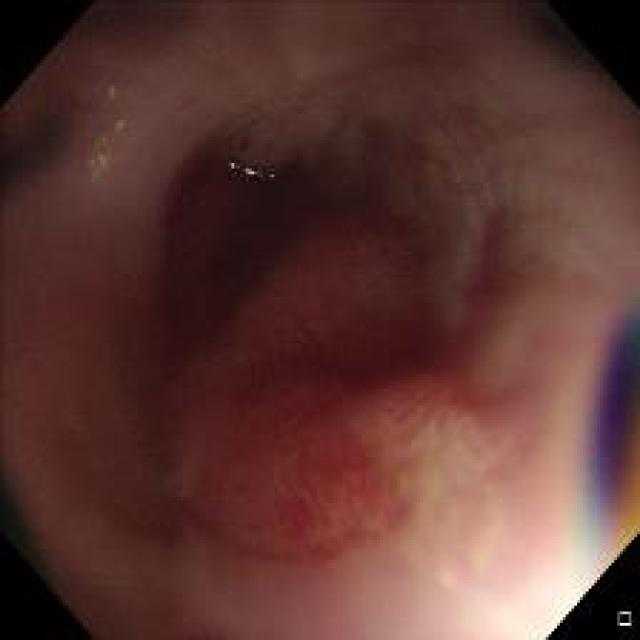color misalignment: (581, 298, 638, 558), (80, 84, 126, 176), (229, 159, 279, 181)
contrast: (135, 120, 420, 382)
